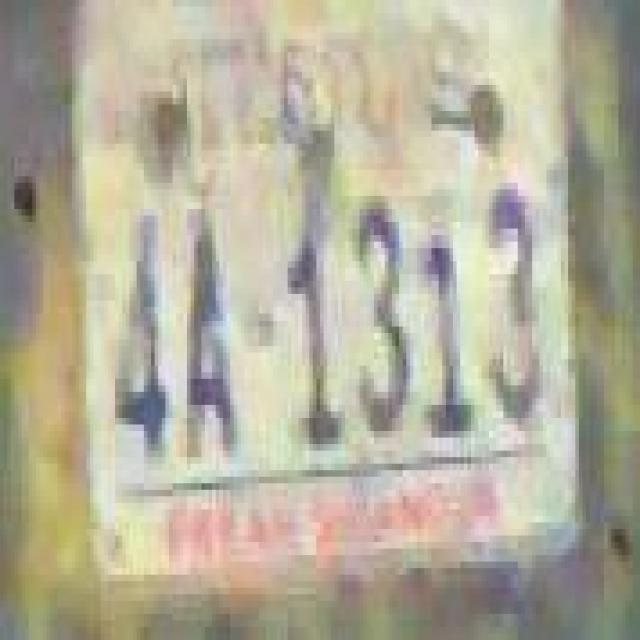Preah_Sihanouk: (166, 20, 475, 190)
